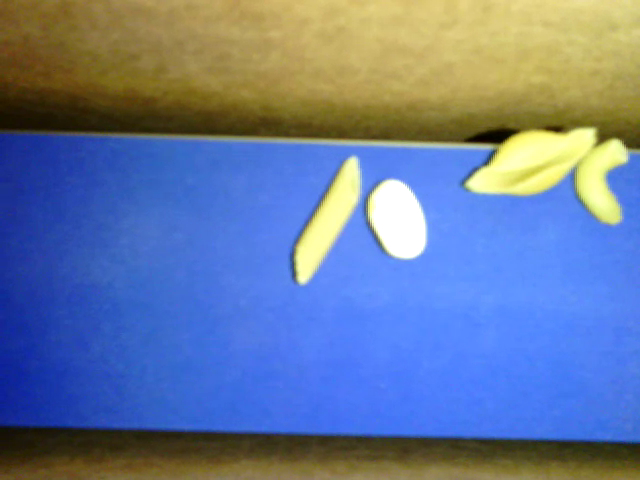elbow: (574, 138, 629, 227)
penne: (290, 154, 361, 286)
shell: (464, 126, 597, 194)
